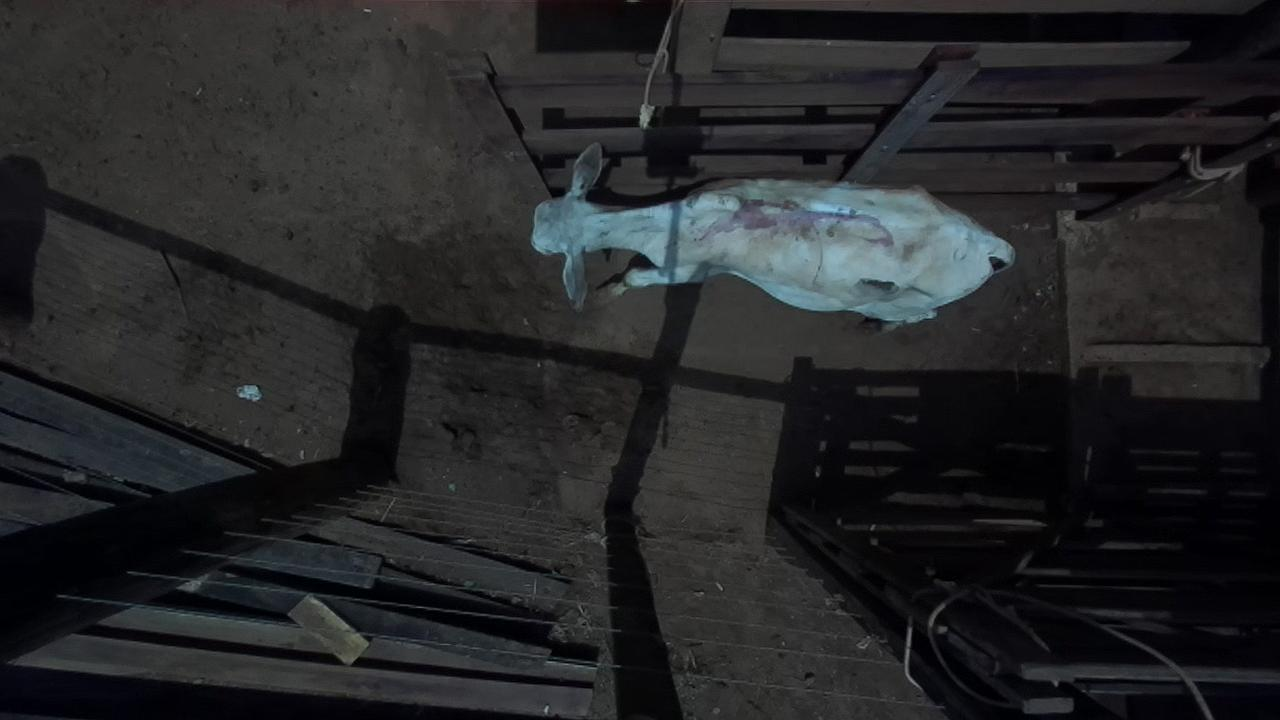cattle: (529, 141, 1016, 328)
